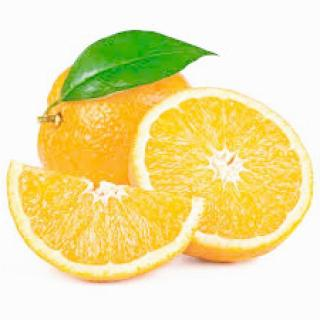orange: (129, 72, 320, 279), (7, 20, 199, 222), (0, 152, 203, 300)
